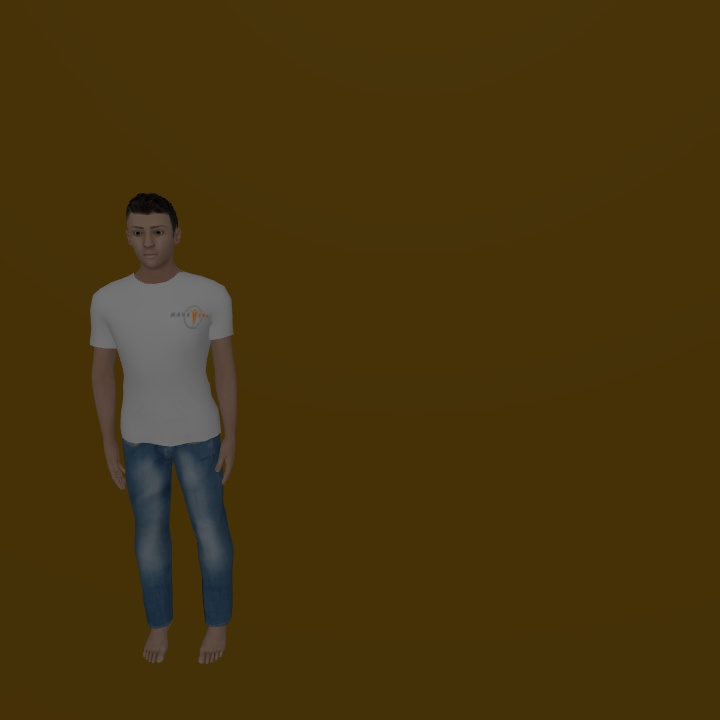victim: (87, 190, 240, 661)
